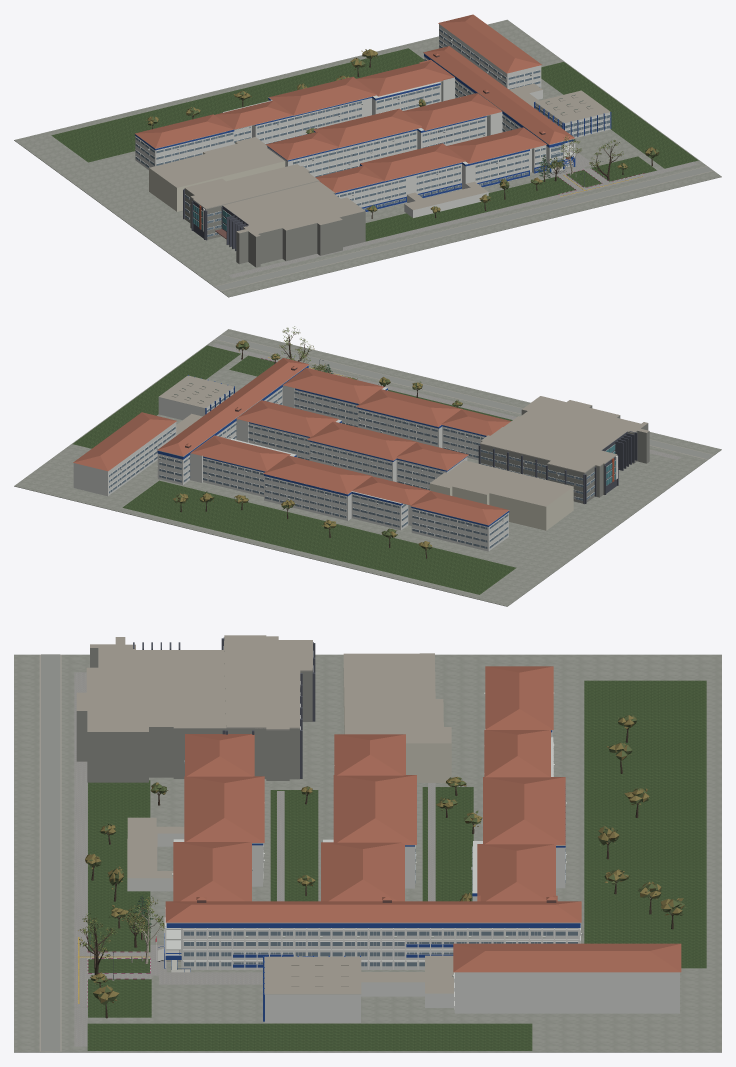
Rendered from ege-edebiyat-fakulte-modeli.glb.
3 renders of one model, top to bottom at view 1: azimuth 30°, elevation 25°; view 2: azimuth 150°, elevation 25°; view 3: azimuth 270°, elevation 25°, orthographic. The views are drawn at different scales.
Visible parts, largest first — view 1: Kampüs Zemini, Edebiyat Fakültesi Yeni Bina, Eczacılık Kanadı, İletişim Kanadı, Ana Bina, Doğu Derslikleri ve Geçiş, Ortak Doğu Bloğu, Batı Bağlantıları, Öğrenci İşleri Bürosu, Kampüs Ağaçları, Güney Giriş Yaklaşımı, Giriş Ağaçları (+1 smaller); view 2: Kampüs Zemini, Eczacılık Kanadı, Edebiyat Fakültesi Yeni Bina, Ana Bina, İletişim Kanadı, Doğu Derslikleri ve Geçiş, Ortak Doğu Bloğu, Batı Bağlantıları, Kampüs Ağaçları, Giriş Ağaçları; view 3: Kampüs Zemini, Edebiyat Fakültesi Yeni Bina, Doğu Derslikleri ve Geçiş, Ortak Doğu Bloğu, Eczacılık Kanadı, Ana Bina, İletişim Kanadı, Batı Bağlantıları, Kampüs Ağaçları, Öğrenci İşleri Bürosu, Güney Giriş Yaklaşımı, Giriş Ağaçları (+2 smaller).
Boxes of the visible parts, x1,y1,x2,y2 form: Kampüs Zemini: (14,19,721,297); Edebiyat Fakültesi Yeni Bina: (183,164,365,267); Eczacılık Kanadı: (135,61,452,169); İletişim Kanadı: (315,127,546,212); Ana Bina: (265,93,502,177); Doğu Derslikleri ve Geçiş: (438,14,611,137); Ortak Doğu Bloğu: (419,46,575,173); Batı Bağlantıları: (149,137,285,211); Öğrenci İşleri Bürosu: (404,181,488,217); Kampüs Ağaçları: (146,49,659,218); Güney Giriş Yaklaşımı: (544,165,647,197); Giriş Ağaçları: (537,135,623,181); Kampüs Zemini: (14,329,721,606); Eczacılık Kanadı: (193,436,509,551); Edebiyat Fakültesi Yeni Bina: (478,396,649,503); Ana Bina: (236,400,468,490); İletişim Kanadı: (282,367,510,460); Doğu Derslikleri ve Geçiş: (73,375,234,496); Ortak Doğu Bloğu: (157,358,309,484); Batı Bağlantıları: (429,460,573,530); Kampüs Ağaçları: (173,340,462,558); Giriş Ağaçları: (279,326,332,373); Kampüs Zemini: (14,654,721,1052); Edebiyat Fakültesi Yeni Bina: (76,635,315,782); Doğu Derslikleri ve Geçiş: (263,943,681,1022); Ortak Doğu Bloğu: (165,895,582,969); Eczacılık Kanadı: (471,666,566,901); Ana Bina: (321,734,416,901); İletişim Kanadı: (172,734,264,901); Batı Bağlantıları: (343,653,451,782); Kampüs Ağaçları: (85,715,686,1018); Öğrenci İşleri Bürosu: (127,817,184,891); Güney Giriş Yaklaşımı: (74,936,166,1006); Giriş Ağaçları: (77,895,164,974).
Bounding box in the file's own units: 243 × 19.41 × 183.
49 materials, 7 textured.
